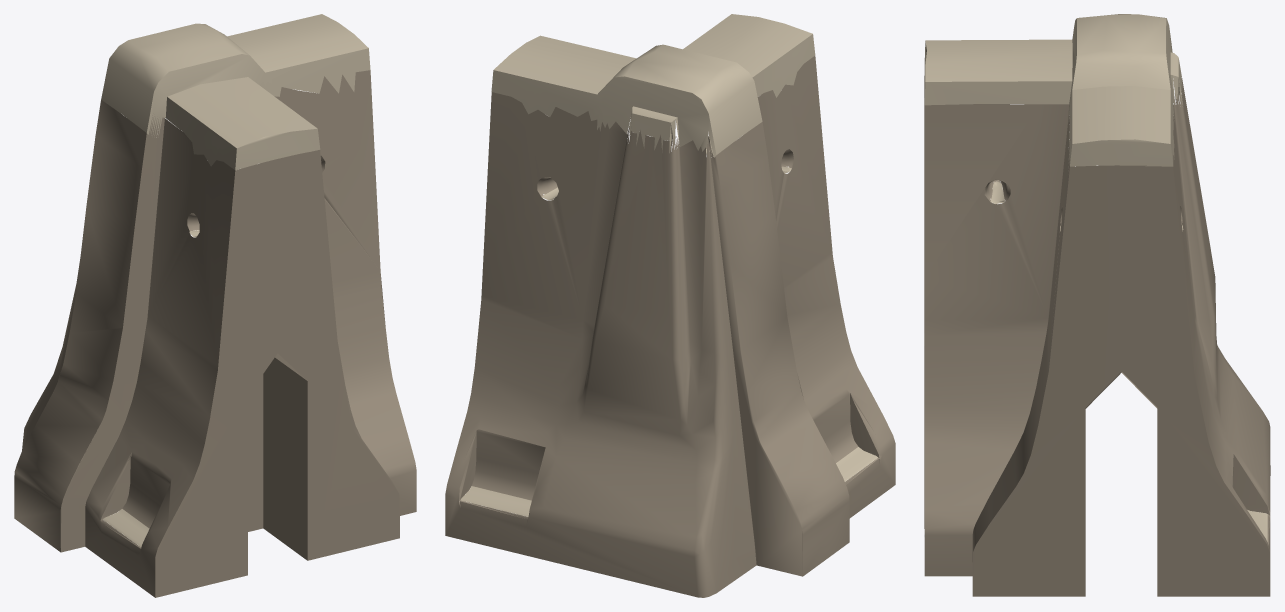
Rendered from stone-wall-es.glb.
3 renders of one model, left to right at view 1: azimuth 30°, elevation 25°; view 2: azimuth 150°, elevation 25°; view 3: azimuth 270°, elevation 25°, orthographic. The views are drawn at different scales.
Visible parts, largest first — view 1: body; view 2: body; view 3: body.
Part boxes in pixels (left/top/right/bottom): body: left=14, top=14, right=416, bottom=597; body: left=445, top=14, right=895, bottom=597; body: left=924, top=14, right=1270, bottom=596.
Size of the model in its own units: 0.9458 by 1.32 by 0.8638.
